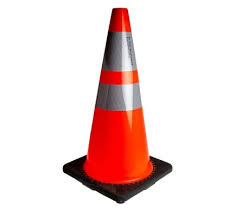cones: (61, 6, 178, 205)
